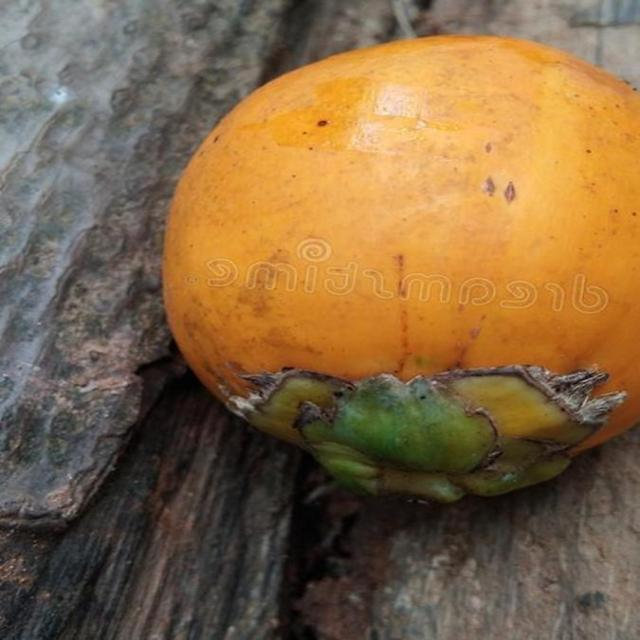good: (161, 35, 639, 506)
